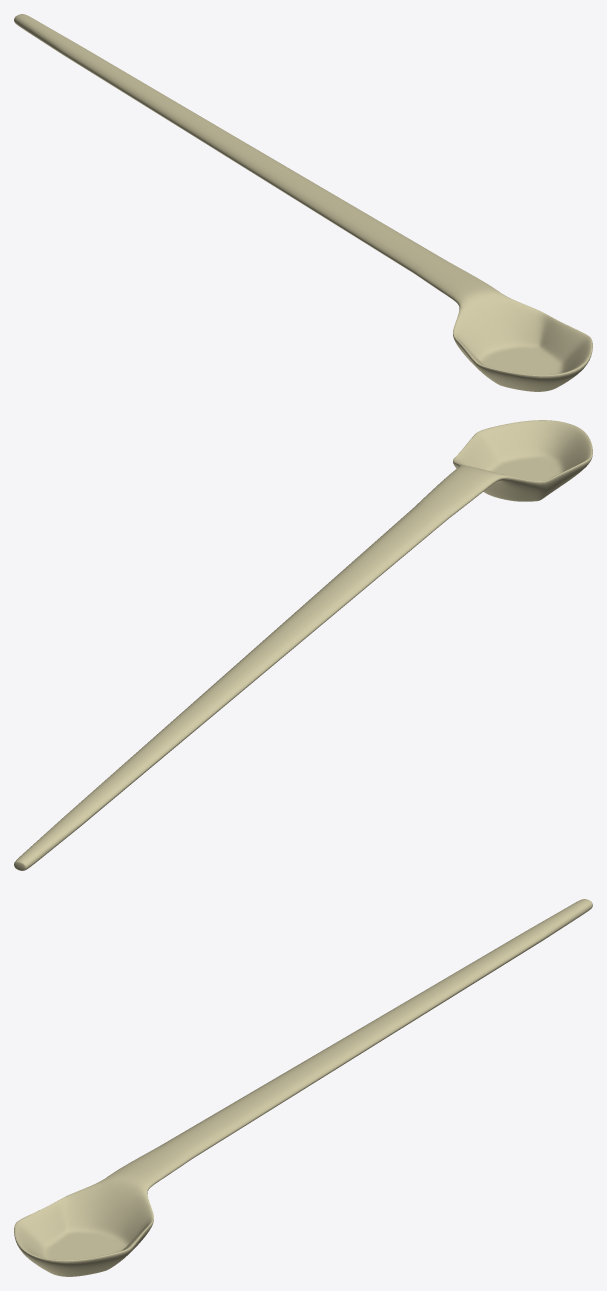
3 renders of one model, top to bottom at view 1: azimuth 30°, elevation 25°; view 2: azimuth 150°, elevation 25°; view 3: azimuth 330°, elevation 25°, orthographic.
Parts seen in each view (by area): view 1: 勺子; view 2: 勺子; view 3: 勺子.
Boxes of the visible parts, <box> form: 勺子: <box>14,14,592,391</box>; 勺子: <box>14,420,592,870</box>; 勺子: <box>14,899,592,1276</box>.
Size of the model in its own units: 25.49 by 14.36 by 214.
